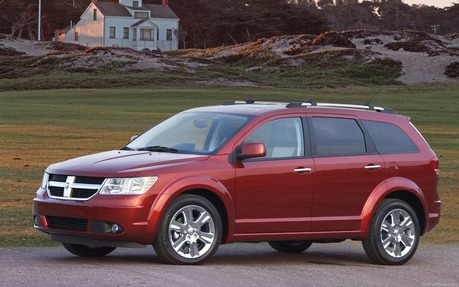car: (32, 100, 441, 266)
